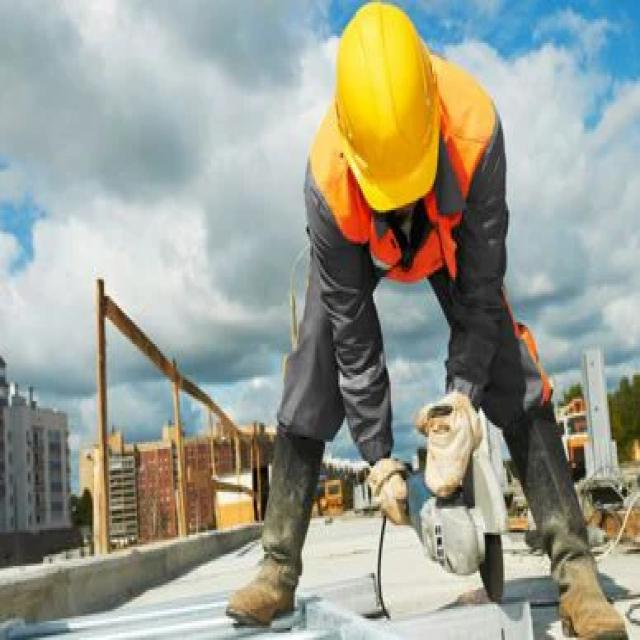Boots: (501, 401, 631, 640), (216, 425, 334, 625)
Gloves: (414, 389, 482, 497), (357, 456, 421, 532)
Hard Hat: (312, 4, 448, 243)
Reflective Vest: (304, 49, 499, 284)
